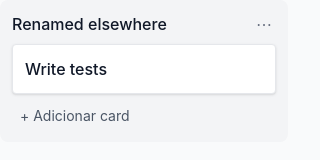
Scenario: Column › resyncs the local title input when the column prop title changes (e.g. realtime update)
Click the button named "opções da coluna".
click(264, 24)  # box [252,12,276,36]
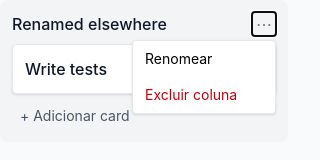
Click the button "Renomear".
click(204, 59)  # box [133,41,275,77]
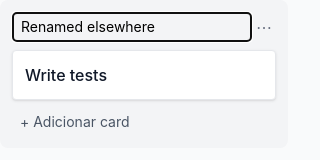
Now the field showing "Renamed elsewhere" is shown, box [12,12,252,42]
